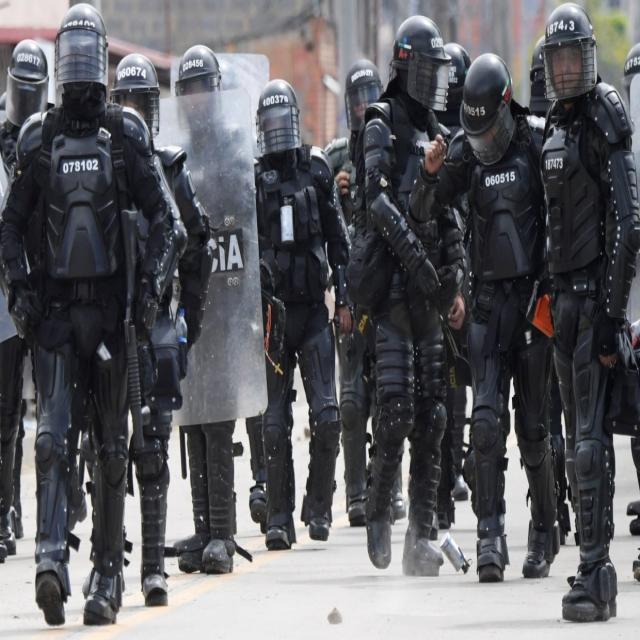police: (0, 0, 209, 640), (418, 36, 561, 608), (532, 0, 640, 640), (341, 0, 461, 575), (114, 31, 226, 617), (240, 52, 354, 597), (0, 13, 72, 576), (313, 15, 393, 511)
